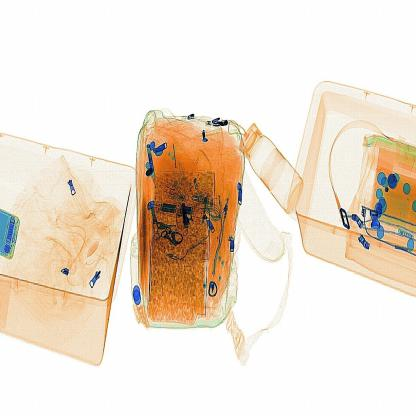pliers: (174, 201, 197, 235)
